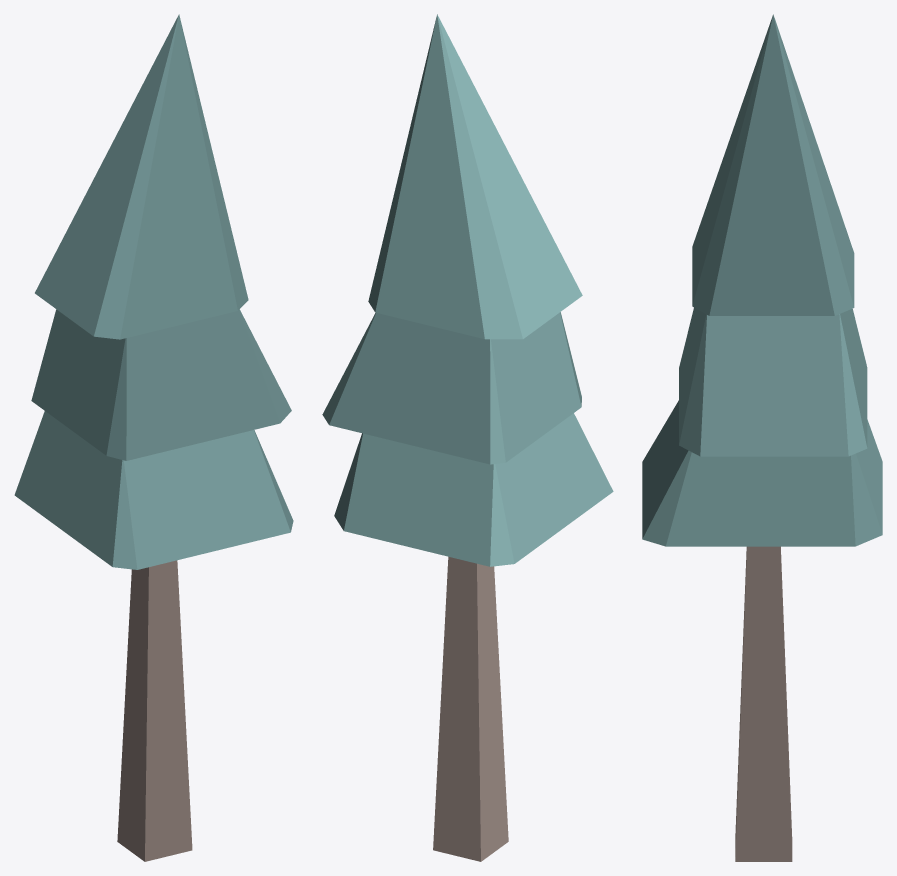
Rendered from nat_tree_pineTallA.glb.
The picture shows the model from 3 angles, left to right: view 1: azimuth 30°, elevation 25°; view 2: azimuth 150°, elevation 25°; view 3: azimuth 270°, elevation 25°; orthographic projection. The views are drawn at different scales.
Visible parts, largest first — view 1: geometry_0; view 2: geometry_0; view 3: geometry_0.
Part boxes in pixels (x1=…): geometry_0: x1=14, y1=14, x2=293, y2=861; geometry_0: x1=322, y1=14, x2=613, y2=861; geometry_0: x1=642, y1=14, x2=882, y2=861.
Bounding box in the file's own units: 0.2525 × 1 × 0.2562.
